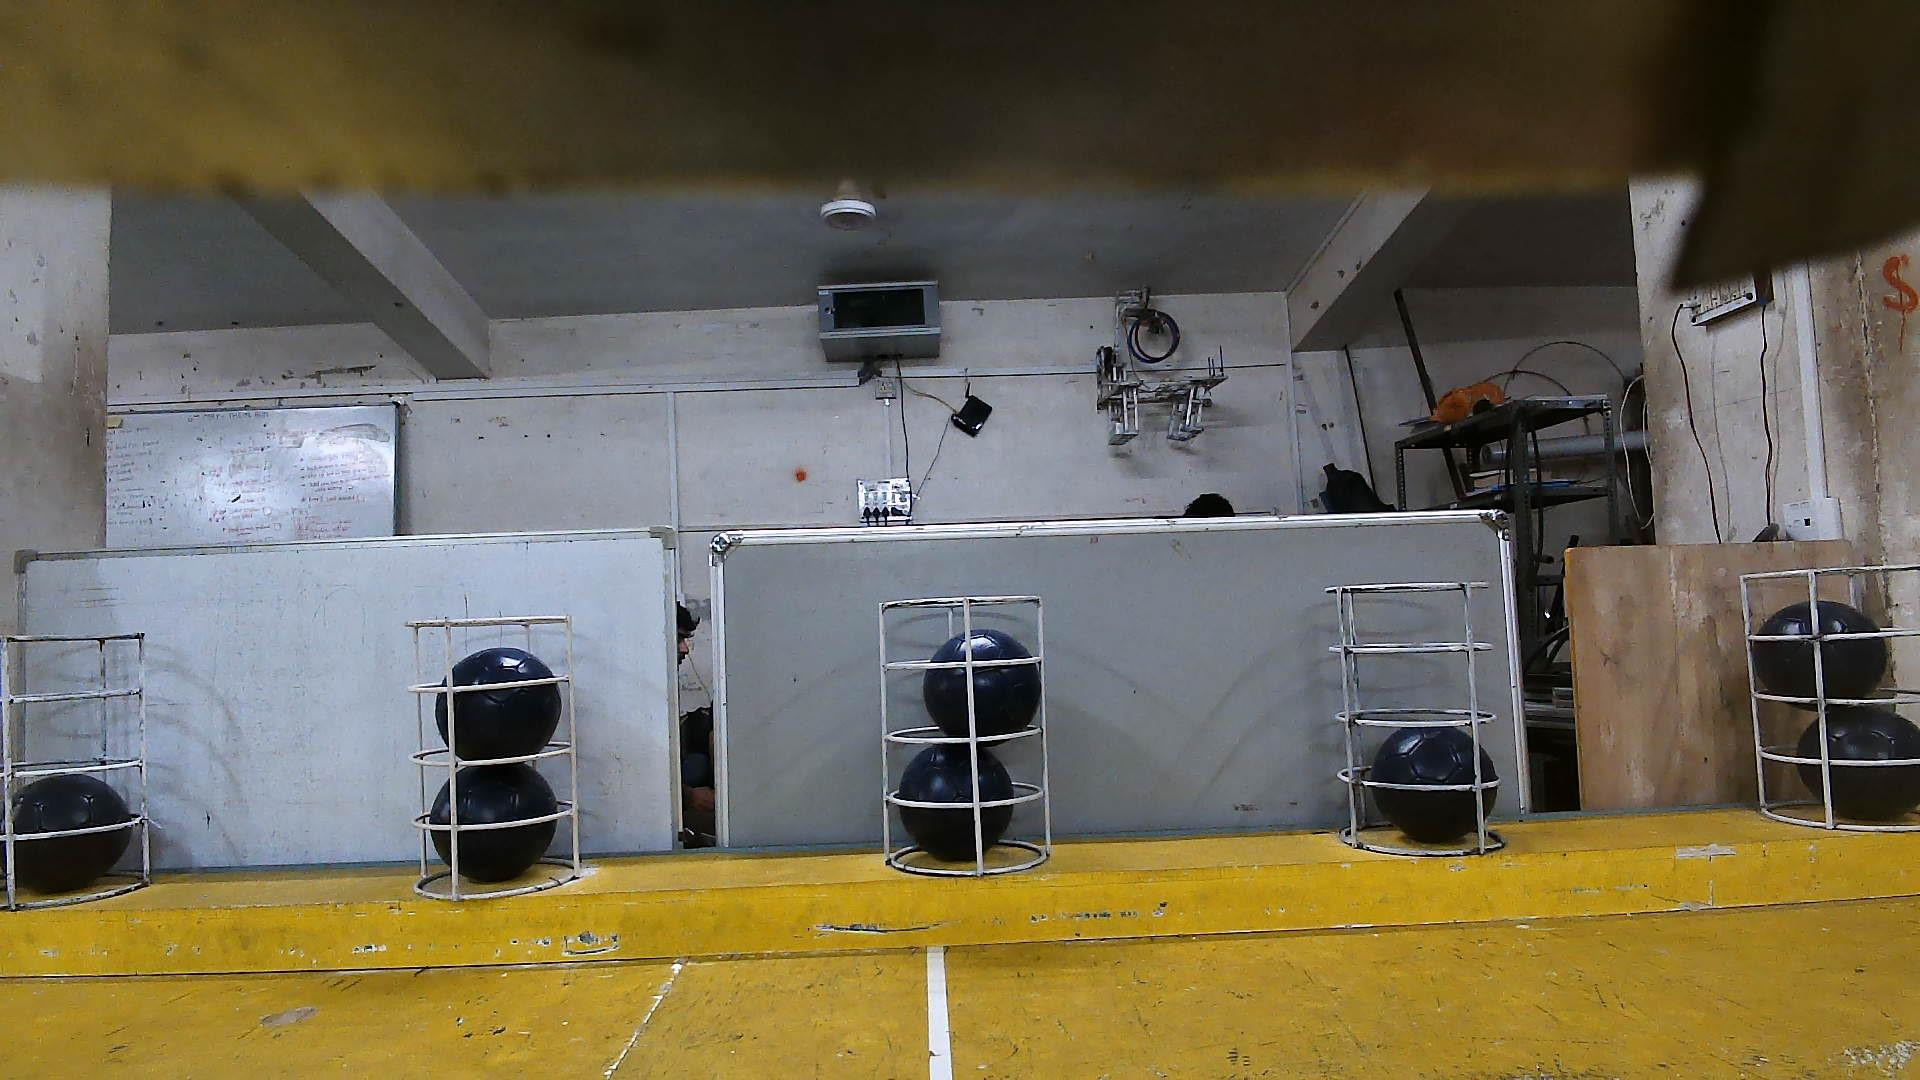dhoka: (439, 647, 560, 766), (430, 762, 550, 881), (1760, 604, 1886, 717), (1367, 728, 1493, 839), (1793, 711, 1919, 816), (18, 778, 133, 890), (923, 634, 1040, 744), (898, 745, 1014, 853)
